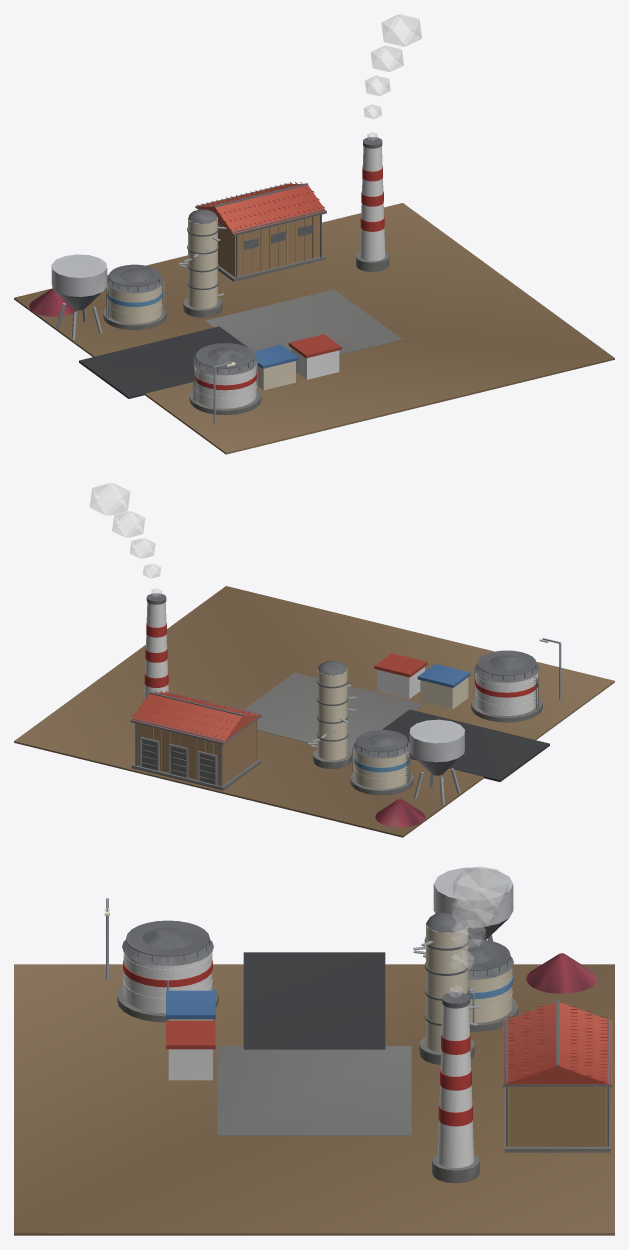
Rendered from Refinery_P1.fbx.
3 renders of one model, top to bottom at view 1: azimuth 30°, elevation 25°; view 2: azimuth 150°, elevation 25°; view 3: azimuth 270°, elevation 25°, orthographic. The views are drawn at different scales.
Visible parts, largest first — view 1: Refinery.Pad, Refinery.Hall, Refinery.Tank0, Refinery.Tank1, Refinery.Col0, Refinery.Utils, Refinery.Stack0, Refinery.Intake, Refinery.Smoke0, Refinery.CoalIn; view 2: Refinery.Pad, Refinery.Hall, Refinery.Tank0, Refinery.Tank1, Refinery.Utils, Refinery.Col0, Refinery.Intake, Refinery.Smoke0, Refinery.Stack0, Refinery.CoalIn; view 3: Refinery.Pad, Refinery.Hall, Refinery.Tank0, Refinery.Stack0, Refinery.Col0, Refinery.Utils, Refinery.Intake, Refinery.Smoke0, Refinery.Tank1, Refinery.CoalIn.
Part boxes in pixels (x1,y1,x2,y2): Refinery.Pad: (14, 203, 614, 454); Refinery.Hall: (195, 182, 326, 281); Refinery.Tank0: (189, 343, 261, 415); Refinery.Tank1: (103, 264, 166, 330); Refinery.Col0: (178, 209, 226, 317); Refinery.Utils: (253, 334, 341, 390); Refinery.Stack0: (356, 137, 389, 271); Refinery.Intake: (51, 254, 107, 339); Refinery.Smoke0: (364, 14, 421, 140); Refinery.CoalIn: (29, 288, 76, 316); Refinery.Pad: (14, 586, 614, 837); Refinery.Hall: (130, 690, 261, 790); Refinery.Tank0: (471, 650, 542, 722); Refinery.Tank1: (350, 730, 413, 795); Refinery.Utils: (374, 653, 470, 709); Refinery.Col0: (308, 661, 356, 768); Refinery.Intake: (409, 719, 464, 805); Refinery.Smoke0: (90, 483, 161, 596); Refinery.Stack0: (144, 593, 168, 700); Refinery.CoalIn: (375, 799, 425, 827); Refinery.Pad: (14, 952, 614, 1235); Refinery.Hall: (503, 1000, 612, 1152); Refinery.Tank0: (117, 920, 218, 1022); Refinery.Stack0: (432, 992, 479, 1183); Refinery.Col0: (413, 912, 481, 1064); Refinery.Utils: (166, 990, 215, 1080); Refinery.Intake: (433, 867, 513, 941); Refinery.Smoke0: (448, 866, 507, 997); Refinery.Tank1: (468, 939, 518, 1031); Refinery.CoalIn: (526, 953, 597, 993).
Bounding box in the file's own units: 7500 × 4189 × 6800.
